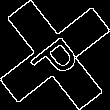P_NE: (24, 25, 86, 85)
